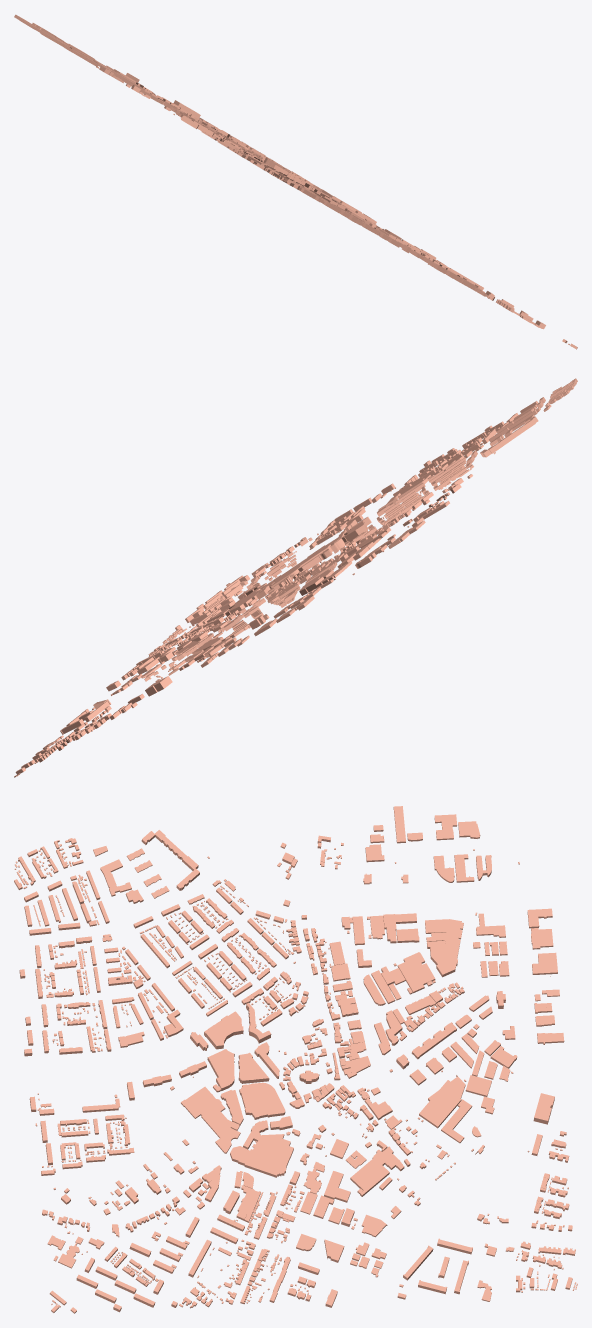
The picture shows the model from 3 angles, top to bottom: view 1: azimuth 30°, elevation 25°; view 2: azimuth 150°, elevation 25°; view 3: azimuth 270°, elevation 25°; orthographic projection. The views are drawn at different scales.
Size of the model in its own units: 1057 by 787 by 1279.
